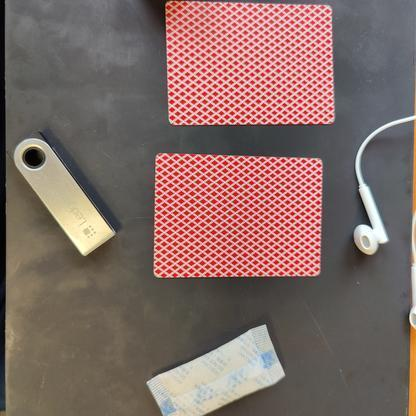card: (143, 141, 332, 288), (158, 1, 342, 133)
